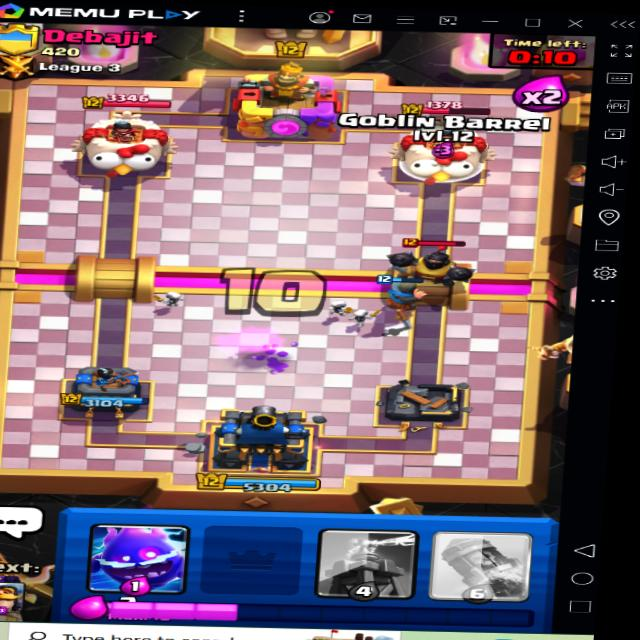mega-knight: (383, 230, 471, 304)
